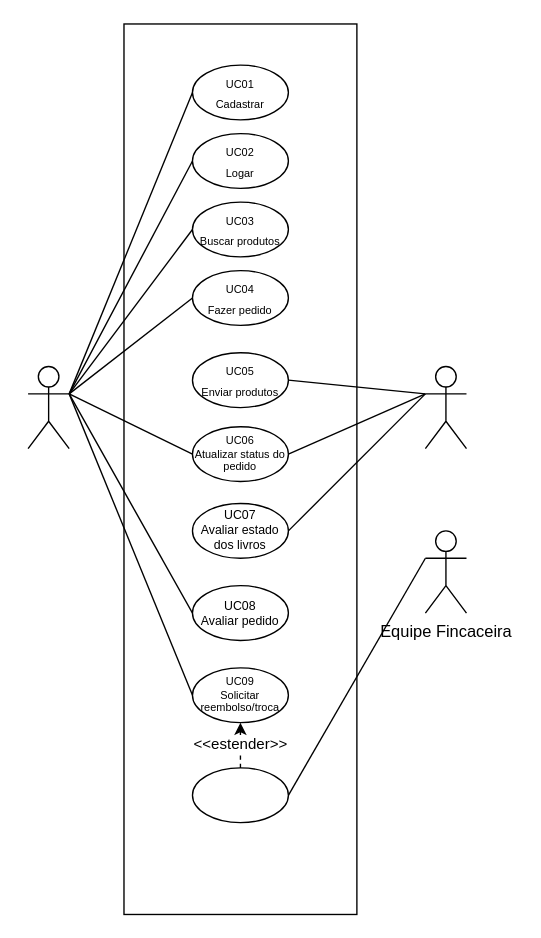
This 541x938 diagram has some shape labels left out. The shapes that lost their labels are listed below. From the top down, each one's centre as x and y in pixels, then its label:
the point at 48,407: Cliente
the point at 445,407: Equipe de Logistica
the point at 239,795: UC10 Realizar o reembolso/troca
